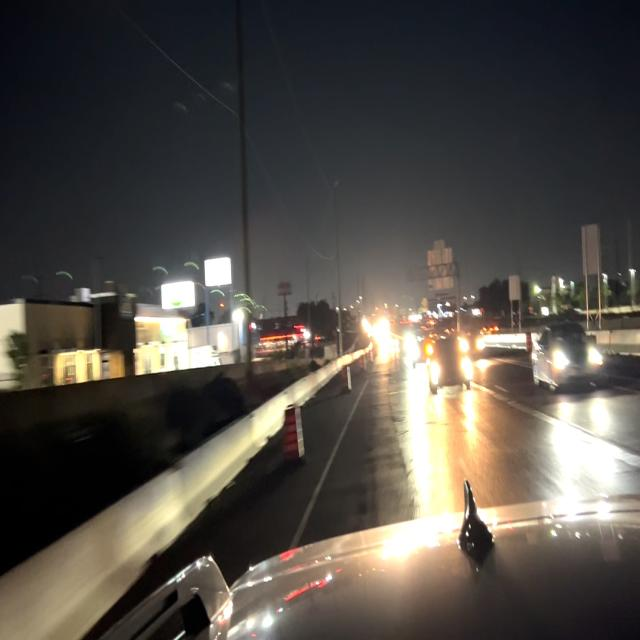back-of-sign: (424, 231, 456, 293)
